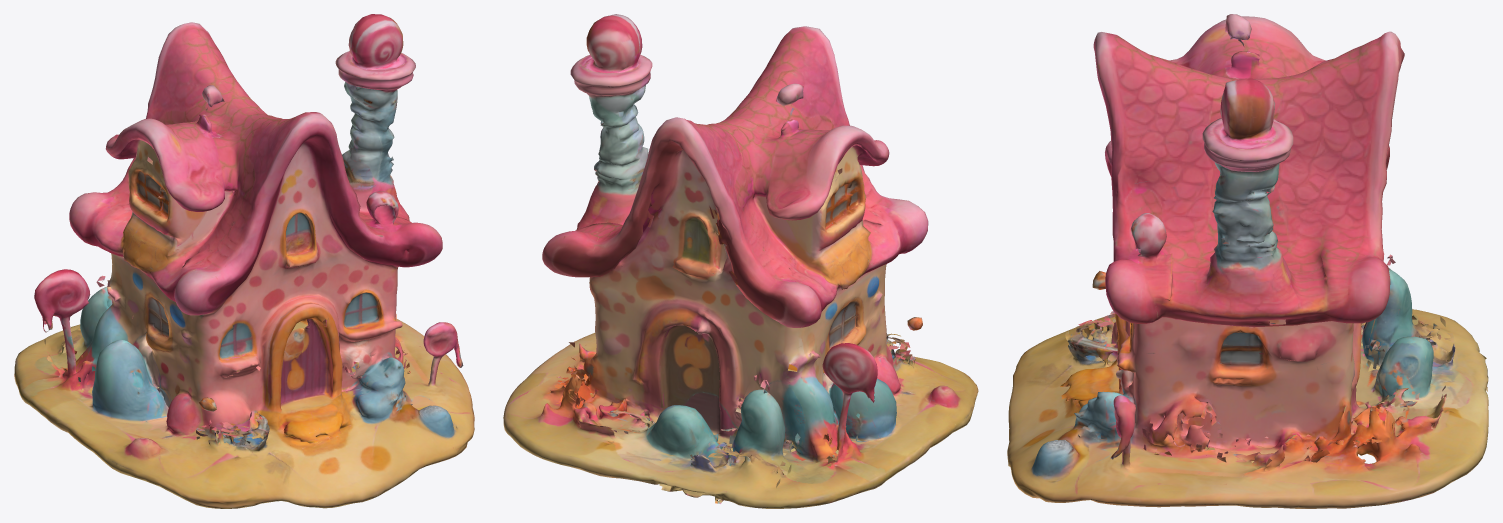
Rendered from candy-cottage.glb.
The picture shows the model from 3 angles, left to right: view 1: azimuth 30°, elevation 25°; view 2: azimuth 150°, elevation 25°; view 3: azimuth 270°, elevation 25°; orthographic projection. The views are drawn at different scales.
Bounding box in the file's own units: 1.99 × 1.99 × 1.98.
1 material, 1 textured.
